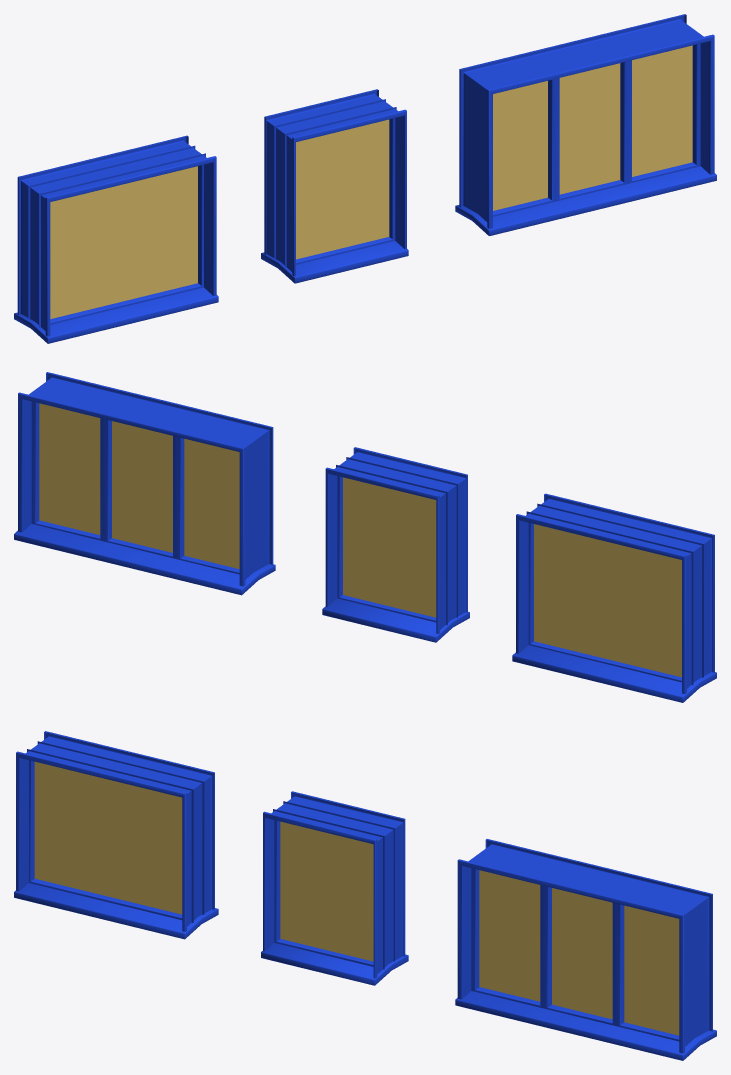
File: Windows 1.fbx
3 views of the same model, one above another, from view 1: azimuth 30°, elevation 25°; view 2: azimuth 150°, elevation 25°; view 3: azimuth 330°, elevation 25° (orthographic).
Visible parts, largest first — view 1: Window 3, Window 1, Window 2; view 2: Window 3, Window 1, Window 2; view 3: Window 3, Window 1, Window 2.
Part boxes in pixels (x1,y1,x2,y2): Window 3: (455,14,716,235); Window 1: (14,135,218,343); Window 2: (261,89,408,283); Window 3: (14,372,275,595); Window 1: (512,493,716,702); Window 2: (322,447,469,642); Window 3: (455,839,716,1060); Window 1: (14,731,218,939); Window 2: (261,791,408,985).
Size of the model in its own units: 7.27 by 1.5 by 0.6408.
